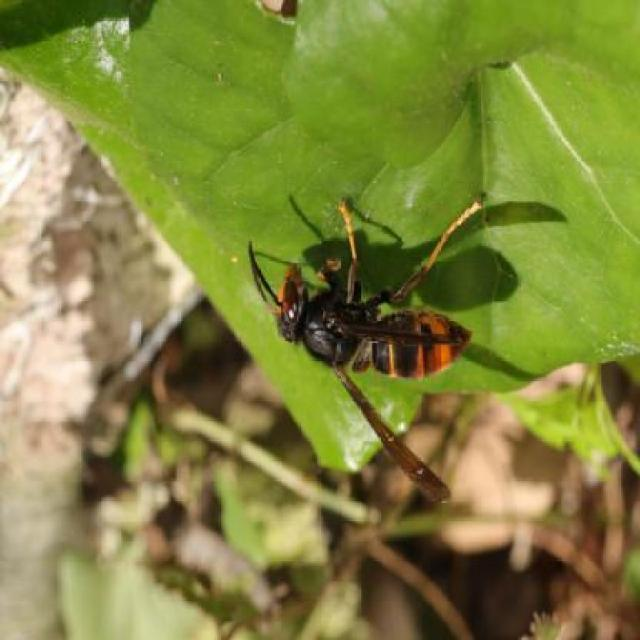Wasp: (248, 186, 504, 516)
